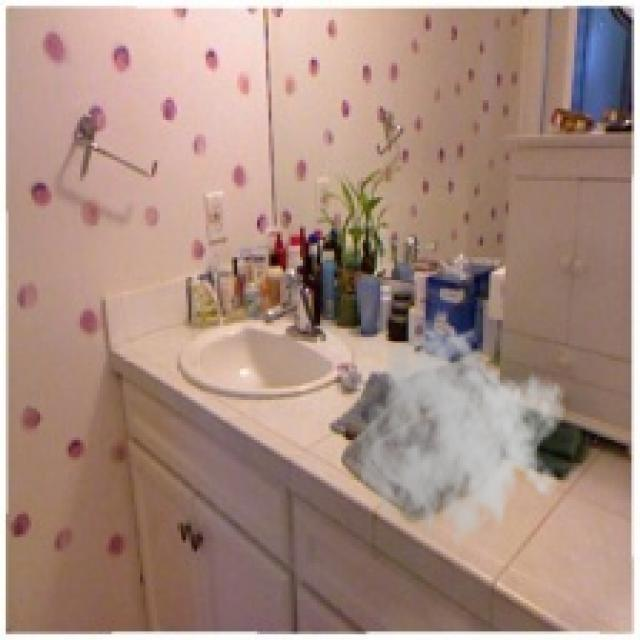Smoke: (354, 317, 569, 566)
